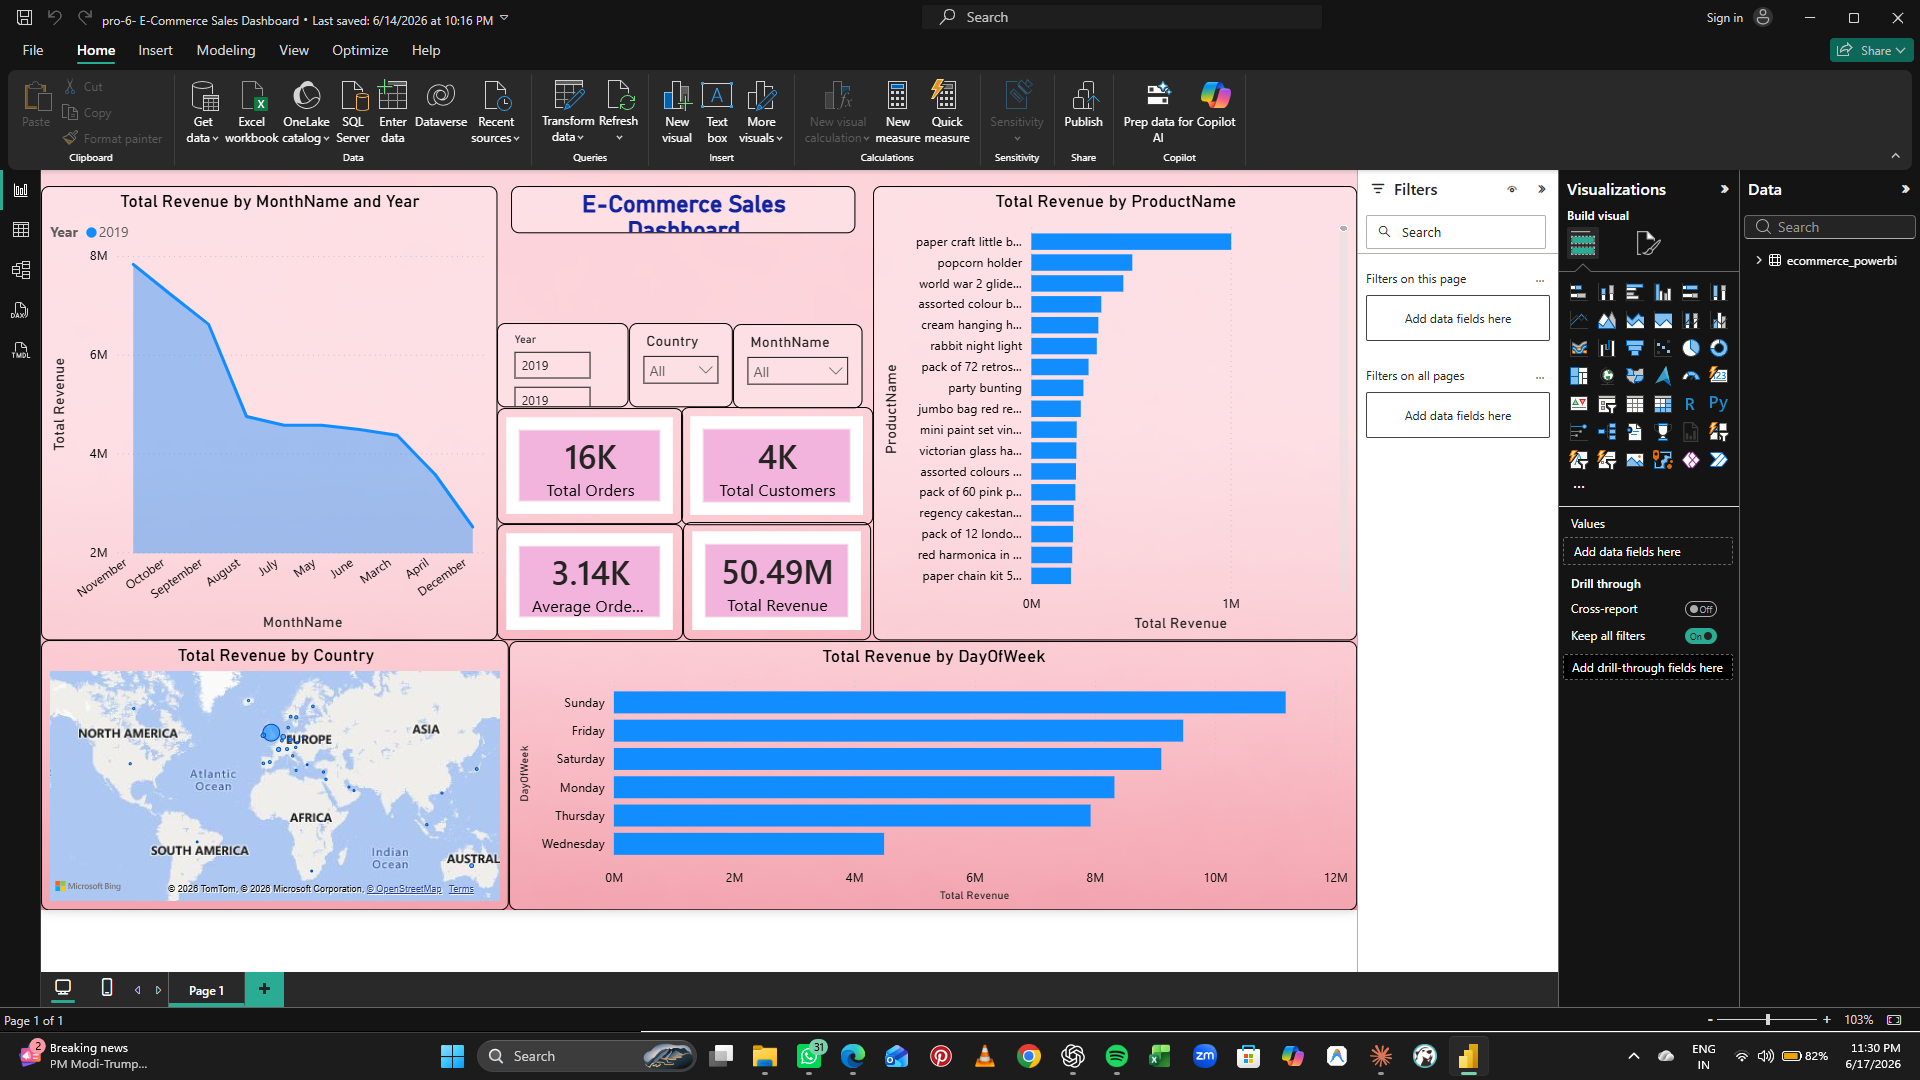

What the dashboard file says about the page in this screenshot:
{"tool":"powerbi","page":{"name":"Page 1","canvas":[1280,720],"ordinal":0},"visuals":[{"type":"cardVisual","fields":{"Data":["ecommerce_powerbi.Total Oders"]},"box":[443.5,231.5,180.9,112.8],"z":0},{"type":"cardVisual","fields":{"Data":["ecommerce_powerbi.Total Revenue"]},"box":[624.4,342.4,182.9,114.8],"z":1000},{"type":"cardVisual","fields":{"Data":["ecommerce_powerbi.Total Customers"]},"box":[622.5,230.5,186.7,114.8],"z":2000},{"type":"cardVisual","fields":{"Data":["ecommerce_powerbi.Average Order Value"]},"box":[443.5,344.3,180.9,112.8],"z":3000},{"type":"lineChart","fields":{"Category":["ecommerce_powerbi.MonthName"],"Y":["ecommerce_powerbi.Total Revenue"],"Series":["ecommerce_powerbi.Year"]},"box":[0,15.6,443.5,441.6],"z":4000},{"type":"clusteredBarChart","fields":{"Category":["ecommerce_powerbi.ProductName"],"Y":["ecommerce_powerbi.Total Revenue"]},"box":[809.2,15.6,470.8,441.6],"z":5000},{"type":"map","fields":{"Category":["ecommerce_powerbi.Country"],"Size":["ecommerce_powerbi.Total Revenue"]},"box":[0,457.1,455.2,262.6],"z":6000},{"type":"clusteredBarChart","fields":{"Category":["ecommerce_powerbi.DayOfWeek"],"Y":["ecommerce_powerbi.Total Revenue"]},"box":[455.2,458.1,824.8,261.6],"z":8000},{"type":"slicer","fields":{"Values":["ecommerce_powerbi.MonthName"]},"box":[673.1,149.8,126.4,81.7],"z":9000},{"type":"slicer","fields":{"Values":["ecommerce_powerbi.Country"]},"box":[571.9,148.8,101.2,81.7],"z":10000},{"type":"slicer","fields":{"Values":["ecommerce_powerbi.Year"]},"box":[443.5,148.8,128.4,81.7],"z":11000},{"type":"textbox","title":"E-Commerce Sales Dashboard","box":[457.1,15.6,334.6,45.7],"z":11001}]}

Visuals, with their boxes on the page's 1280x720 design canvas (x1, y1, x2, y2). These are canvas units, not pixel positions in the 1920x1080 screenshot, which may show the page scaled, cropped or inside an application window:
cardVisual - ecommerce_powerbi.Total Oders: BBox(444, 232, 624, 344)
cardVisual - ecommerce_powerbi.Total Revenue: BBox(624, 342, 807, 457)
cardVisual - ecommerce_powerbi.Total Customers: BBox(622, 230, 809, 345)
cardVisual - ecommerce_powerbi.Average Order Value: BBox(444, 344, 624, 457)
lineChart - ecommerce_powerbi.MonthName x ecommerce_powerbi.Total Revenue: BBox(0, 16, 444, 457)
clusteredBarChart - ecommerce_powerbi.ProductName x ecommerce_powerbi.Total Revenue: BBox(809, 16, 1280, 457)
map - ecommerce_powerbi.Country x ecommerce_powerbi.Total Revenue: BBox(0, 457, 455, 720)
clusteredBarChart - ecommerce_powerbi.DayOfWeek x ecommerce_powerbi.Total Revenue: BBox(455, 458, 1280, 720)
slicer - ecommerce_powerbi.MonthName: BBox(673, 150, 800, 232)
slicer - ecommerce_powerbi.Country: BBox(572, 149, 673, 230)
slicer - ecommerce_powerbi.Year: BBox(444, 149, 572, 230)
"E-Commerce Sales Dashboard" textbox: BBox(457, 16, 792, 61)
